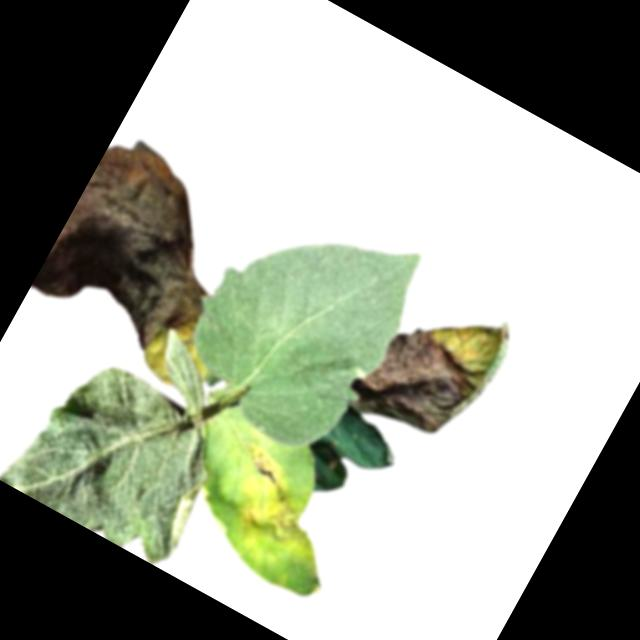Late_blight: (29, 127, 263, 370), (342, 270, 523, 464), (211, 443, 334, 563)
healthy: (159, 171, 438, 467), (1, 340, 240, 571), (136, 327, 228, 417)
